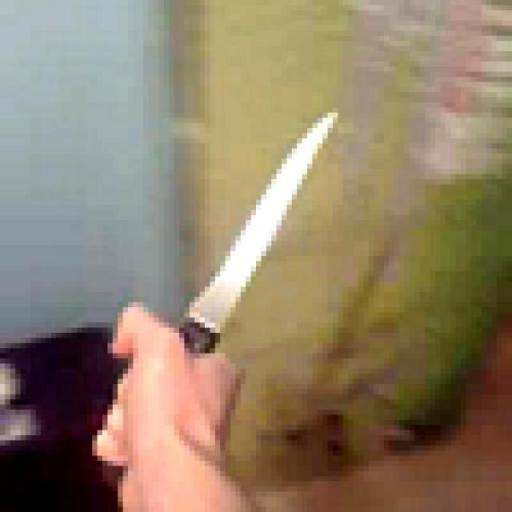knife: (83, 82, 375, 486)
